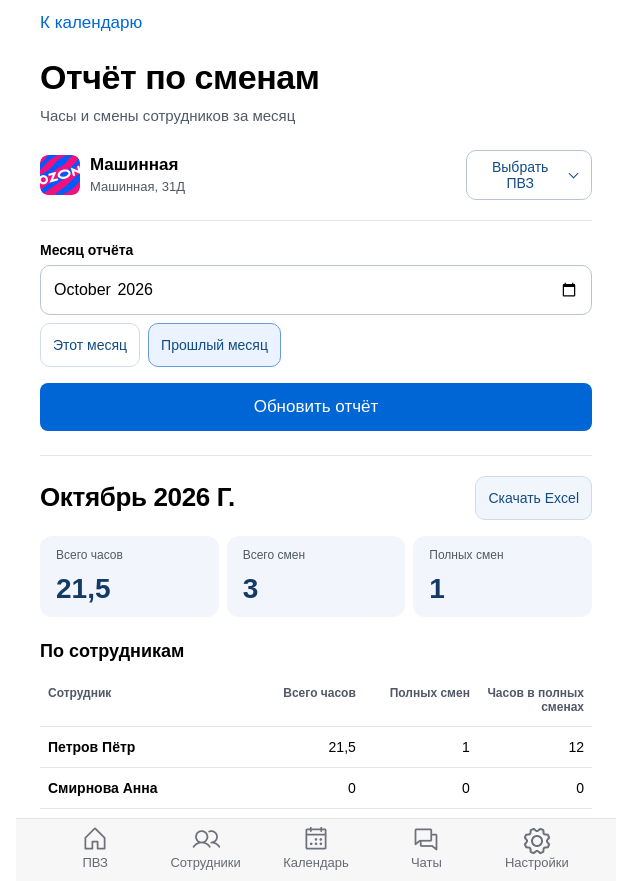
Scenario: Excel использует Bearer, обновляет токен при 401 и отдаёт браузеру исходные байты
The image size is (633, 881).
Click the button "Скачать Excel": (534, 498) [475,476,592,520]
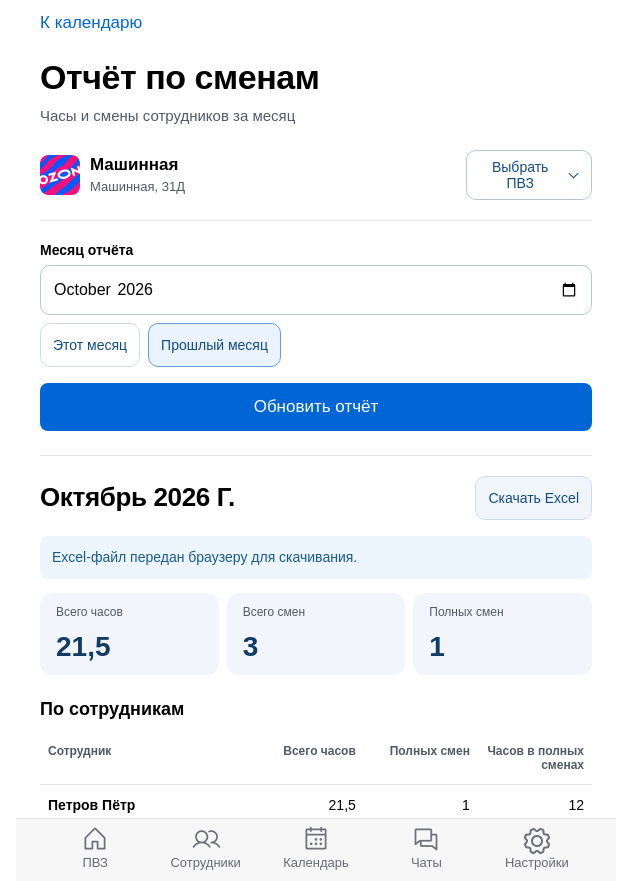
Expected: the text "Excel-файл передан браузеру для скачивания." is shown, [40,536,592,579]
